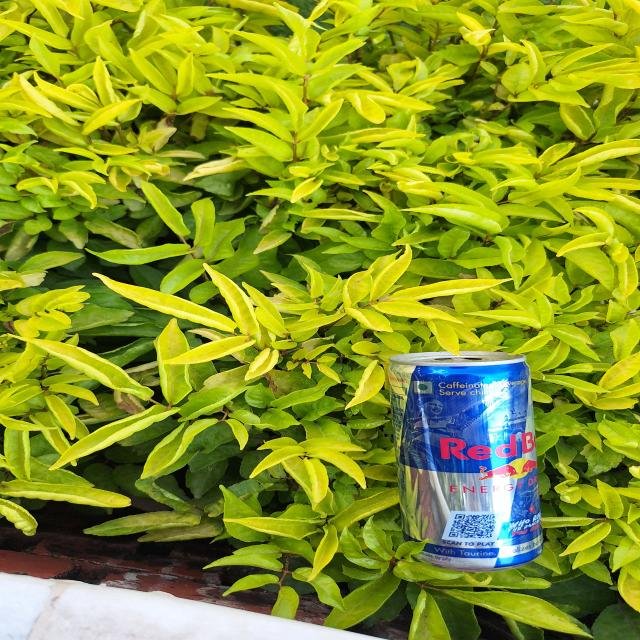Redbull DanceYourStyle: (402, 352, 546, 562)
